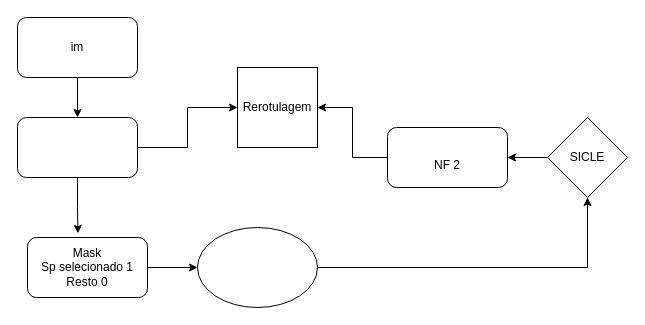
This 645x325 diagram has some shape labels left out. Here are the shapes that lost their labels. From the top down, the centre of each, then its label:
At point (77, 147): "Im seg".
At point (257, 267): "mask".
